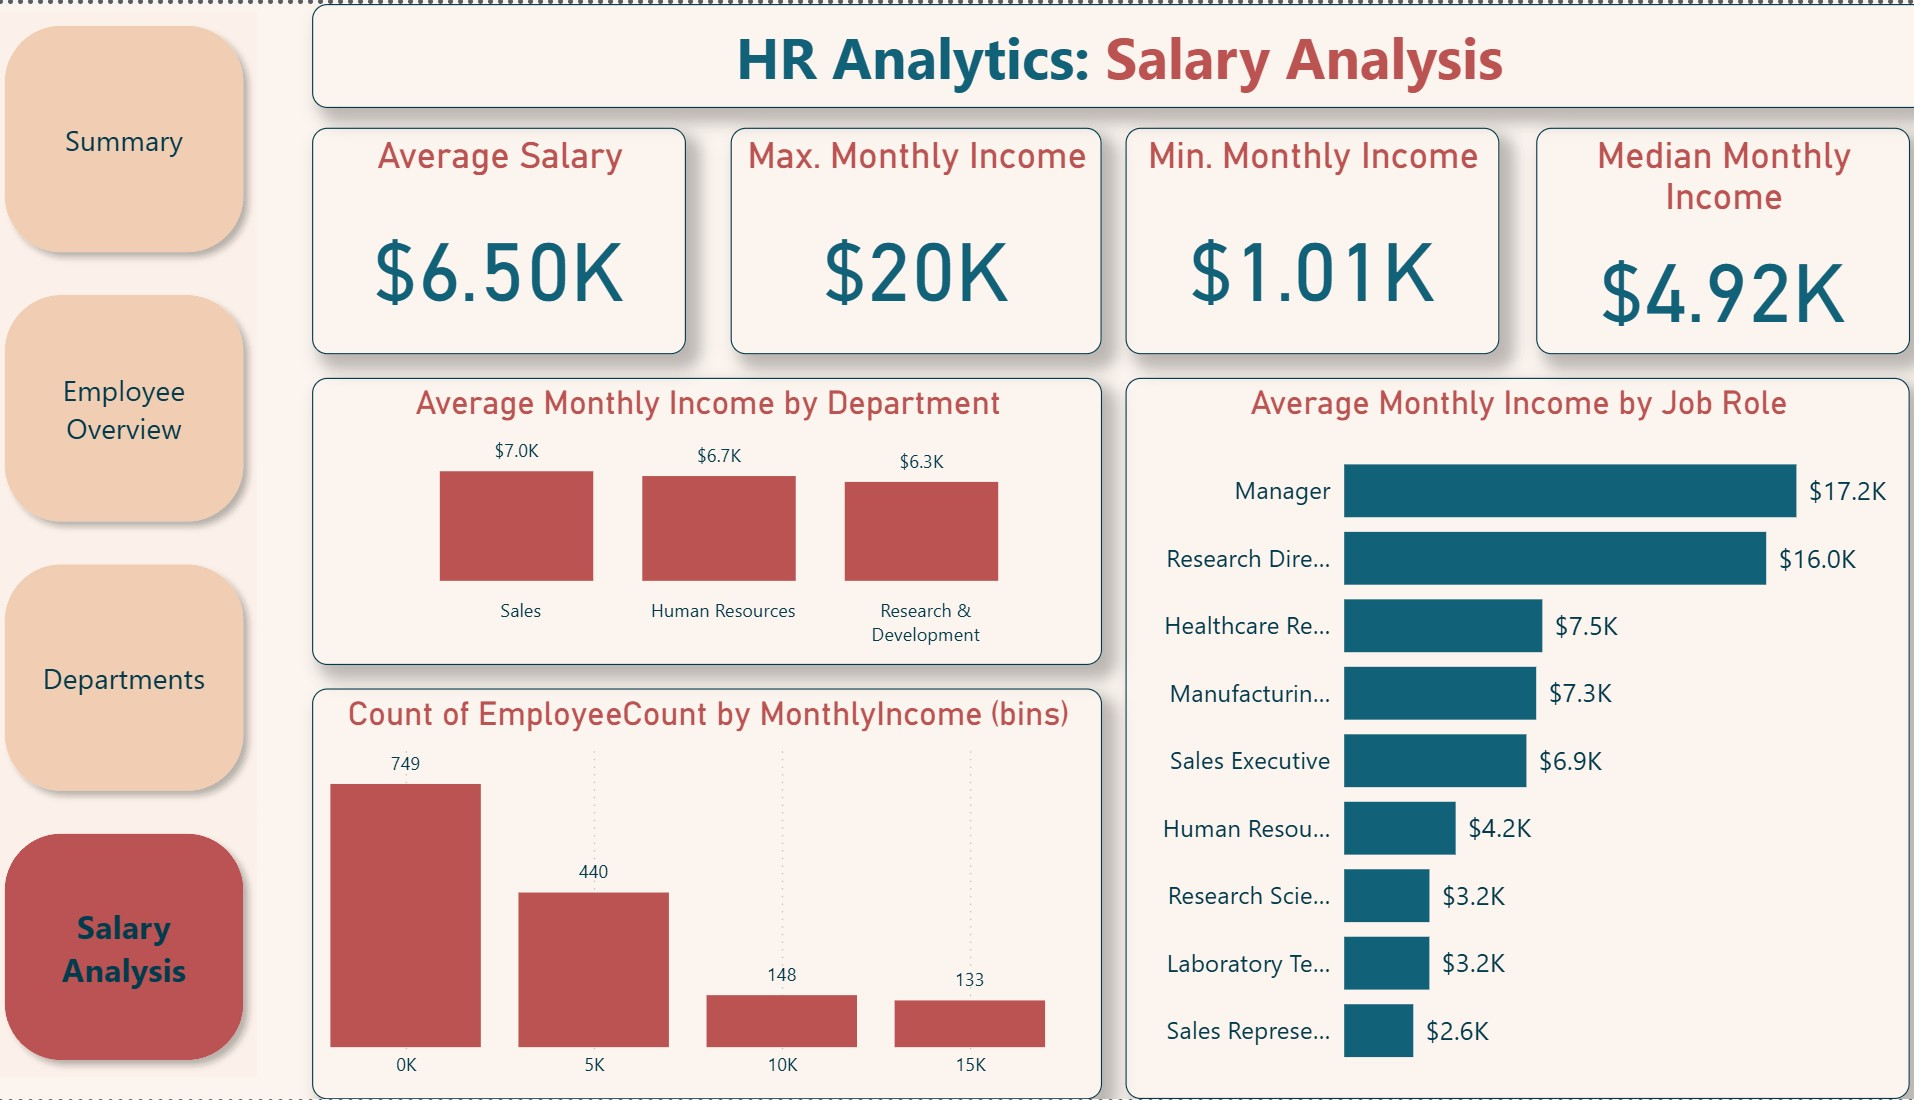

What the dashboard file says about the page in this screenshot:
{"tool":"powerbi","page":{"name":"Salary Analysis","canvas":[1280,720],"ordinal":3},"visuals":[{"type":"textbox","box":[216.9,0,1062,68.2],"z":0},{"type":"card","title":"Average Salary","fields":{"Values":["HR.Analytics.Avrg_Monthly_Income"]},"box":[216.3,81.3,245.7,148.8],"z":1000},{"type":"card","title":"Max. Monthly Income","fields":{"Values":["Max(HR.Analytics.MonthlyIncome)"]},"box":[491.4,81.3,244,148.8],"z":2000},{"type":"card","title":"Min. Monthly Income","fields":{"Values":["Min(HR.Analytics.MonthlyIncome)"]},"box":[751,81.3,245.7,148.8],"z":3000},{"type":"card","title":"Median Monthly Income","fields":{"Values":["Median(HR.Analytics.MonthlyIncome)"]},"box":[1020.9,81.3,245.7,148.8],"z":4000},{"type":"lineClusteredColumnComboChart","title":"Average Monthly Income by Department","fields":{"Category":["HR.Analytics.Department"],"Y":["Avg(HR.Analytics.MonthlyIncome)"]},"box":[216.3,245.7,519.1,188.6],"z":5000},{"type":"clusteredBarChart","title":"Average Monthly Income by Job Role","fields":{"Category":["HR.Analytics.JobRole"],"Y":["HR.Analytics.Avrg_Monthly_Income"]},"box":[751,245.7,515.7,474.1],"z":6000},{"type":"lineClusteredColumnComboChart","fields":{"Category":["HR.Analytics.MonthlyIncome (bins)"],"Y":["CountNonNull(HR.Analytics.EmployeeCount)","select"]},"box":[216.3,449.9,519.1,269.9],"z":7000},{"type":"pageNavigator","box":[5,5,175,700],"z":8000}]}

Visuals, with their boxes in screenshot pixels (x1, y1, x2, y2), scaled from the page's 1280x720 canvas onto the 1914x1100 screenshot:
textbox: left=324, top=0, right=1912, bottom=104
"Average Salary" card: left=323, top=124, right=691, bottom=352
"Max. Monthly Income" card: left=735, top=124, right=1100, bottom=352
"Min. Monthly Income" card: left=1123, top=124, right=1490, bottom=352
"Median Monthly Income" card: left=1527, top=124, right=1894, bottom=352
"Average Monthly Income by Department" lineClusteredColumnComboChart: left=323, top=375, right=1100, bottom=664
"Average Monthly Income by Job Role" clusteredBarChart: left=1123, top=375, right=1894, bottom=1099
lineClusteredColumnComboChart - HR.Analytics.MonthlyIncome (bins) x CountNonNull(HR.Analytics.EmployeeCount): left=323, top=687, right=1100, bottom=1099
pageNavigator: left=7, top=8, right=269, bottom=1077
